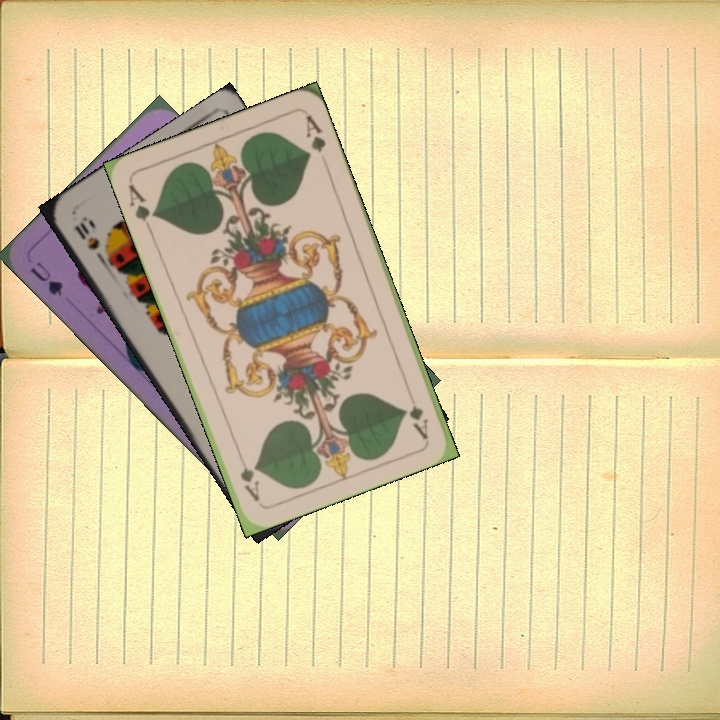GA: (124, 180, 160, 235), (402, 384, 431, 441)
GU: (26, 257, 66, 299)
S10: (70, 214, 108, 266)
